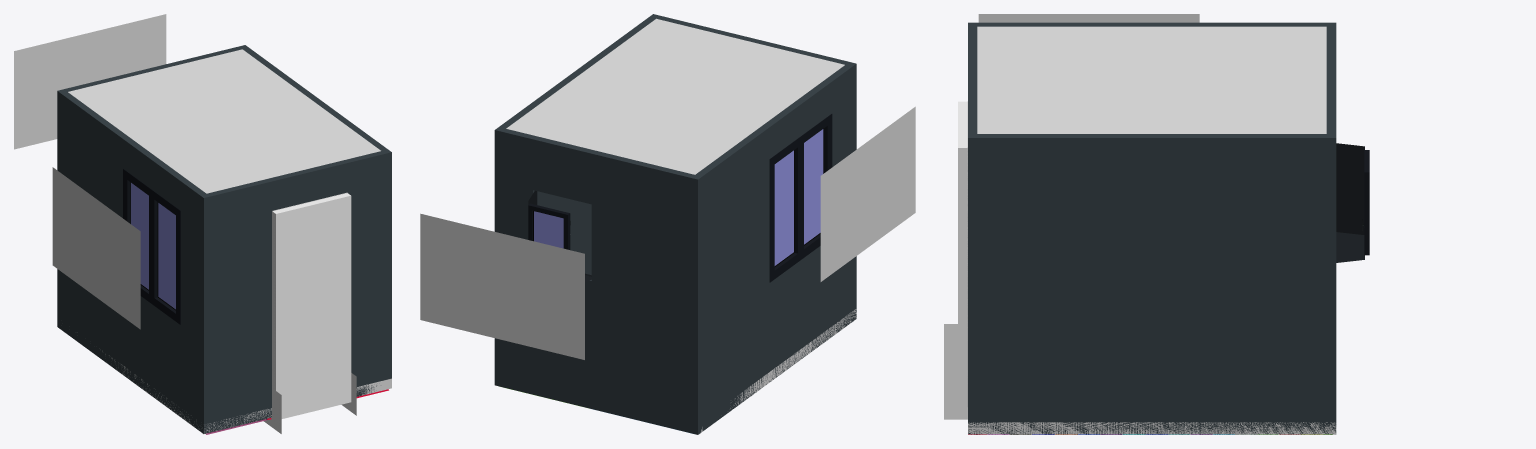
The model's file is Producers Office.fbx.
3 views of the same model, side by side, from view 1: azimuth 30°, elevation 25°; view 2: azimuth 150°, elevation 25°; view 3: azimuth 270°, elevation 25° (orthographic). The views are drawn at different scales.
Parts seen in each view (by area): view 1: Room, Plane, CTRL_Hole, TexturesCom_NatureForests0079_1_S, TexturesCom_NatureForests0079_1_S.001, Window, Baseboard, CTRL_Baseboard; view 2: Room, Plane, TexturesCom_NatureForests0079_1_S, TexturesCom_NatureForests0079_1_S.001, Window, Window.001, Baseboard; view 3: Room, Plane, Baseboard, encadrure-fenetre, CTRL_Hole, TexturesCom_NatureForests0079_1_S.001, CTRL_Baseboard, Window.001.
Part boxes in pixels (x1,y1,x2,y2): Room: [57, 45, 391, 433]; Plane: [68, 49, 380, 193]; CTRL_Hole: [272, 193, 351, 420]; TexturesCom_NatureForests0079_1_S: [14, 14, 166, 149]; TexturesCom_NatureForests0079_1_S.001: [52, 167, 140, 329]; Window: [123, 168, 180, 324]; Baseboard: [77, 332, 391, 433]; CTRL_Baseboard: [263, 373, 356, 433]; Room: [494, 14, 856, 434]; Plane: [506, 18, 844, 174]; TexturesCom_NatureForests0079_1_S: [420, 213, 584, 359]; TexturesCom_NatureForests0079_1_S.001: [820, 106, 915, 281]; Window: [769, 114, 832, 282]; Window.001: [528, 203, 570, 249]; Baseboard: [700, 309, 856, 432]; Room: [968, 22, 1336, 434]; Plane: [977, 26, 1326, 133]; Baseboard: [968, 422, 1336, 434]; encadrure-fenetre: [1336, 143, 1364, 262]; CTRL_Hole: [958, 101, 967, 369]; TexturesCom_NatureForests0079_1_S.001: [978, 14, 1199, 22]; CTRL_Baseboard: [944, 324, 967, 419]; Window.001: [1364, 150, 1369, 255].
Size of the model in its own units: 263 by 250 by 424.
